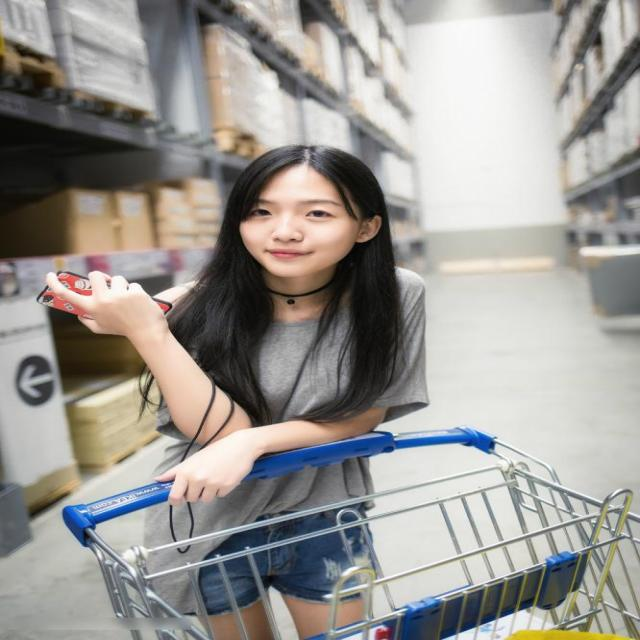Manusia: (78, 140, 440, 632)
